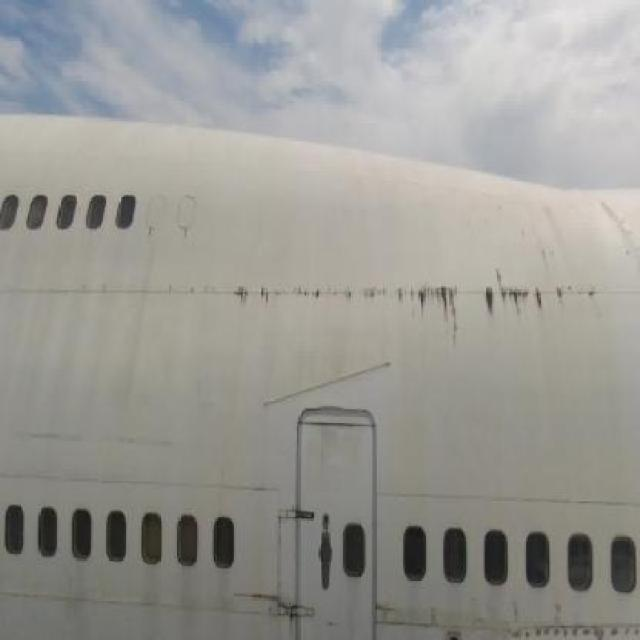Rust: (226, 272, 603, 339), (519, 215, 572, 276), (235, 586, 302, 634), (248, 485, 272, 589), (183, 225, 189, 244), (148, 228, 155, 242)
Scartch: (376, 591, 616, 640), (12, 420, 179, 462), (315, 424, 370, 482), (598, 193, 640, 267)
